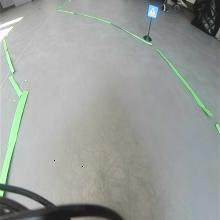crosswalk: (147, 4, 158, 19)
